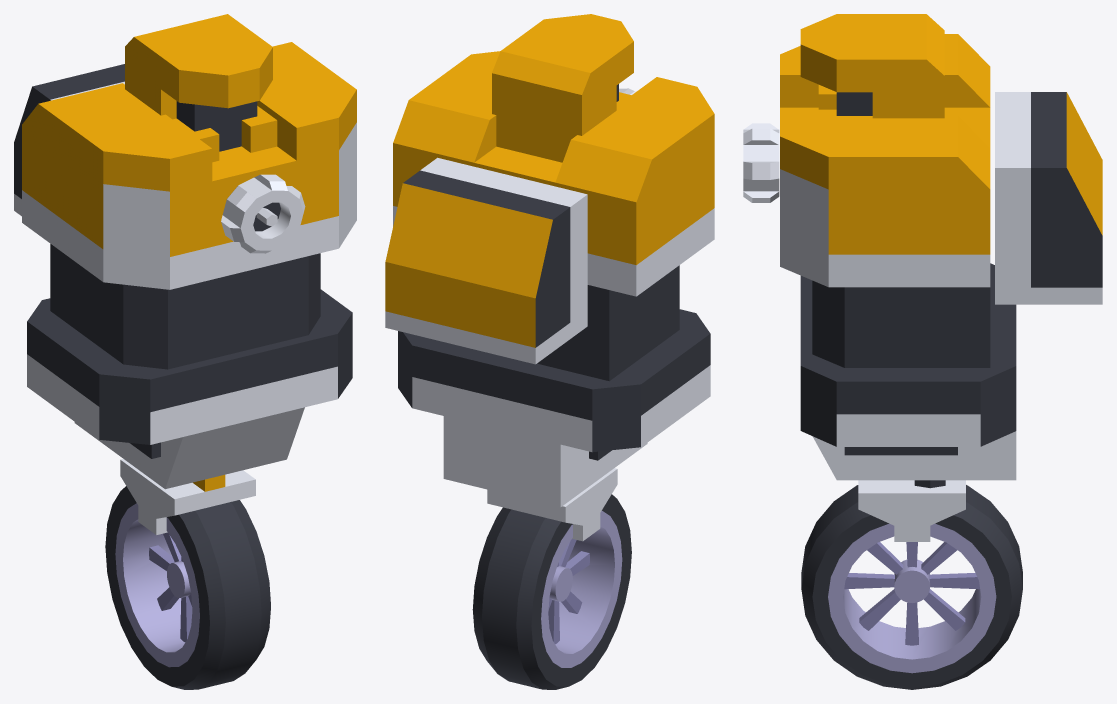
Rendered from Robot v2.fbx.
The picture shows the model from 3 angles, left to right: view 1: azimuth 30°, elevation 25°; view 2: azimuth 150°, elevation 25°; view 3: azimuth 270°, elevation 25°; orthographic projection. The views are drawn at different scales.
Parts seen in each view (by area): view 1: chest_body, pelvis_belt, wheel_cycleSpokesDetailed, head_knight, cog_smallEdgeClosed, leg_pipes, Jetpack; view 2: chest_body, pelvis_belt, Jetpack, wheel_cycleSpokesDetailed, head_knight, leg_pipes; view 3: chest_body, wheel_cycleSpokesDetailed, pelvis_belt, Jetpack, head_knight, leg_pipes, cog_smallEdgeClosed.
Part boxes in pixels (x1,y1,x2,y2): chest_body: [22, 42, 356, 458]; pelvis_belt: [27, 289, 352, 489]; wheel_cycleSpokesDetailed: [105, 486, 270, 689]; head_knight: [125, 14, 277, 162]; cog_smallEdgeClosed: [221, 174, 305, 253]; leg_pipes: [120, 459, 255, 534]; Jetpack: [14, 64, 124, 216]; chest_body: [393, 51, 714, 460]; pelvis_belt: [398, 309, 710, 507]; Jetpack: [385, 157, 587, 364]; wheel_cycleSpokesDetailed: [472, 494, 631, 689]; head_knight: [492, 14, 633, 162]; leg_pipes: [487, 468, 617, 541]; chest_body: [780, 34, 990, 455]; wheel_cycleSpokesDetailed: [801, 485, 1022, 689]; pelvis_belt: [800, 263, 1016, 480]; Jetpack: [995, 92, 1102, 304]; head_knight: [800, 14, 944, 118]; leg_pipes: [858, 480, 965, 541]; cog_smallEdgeClosed: [743, 123, 779, 202].
Size of the model in its own units: 8.1 by 19.78 by 10.
